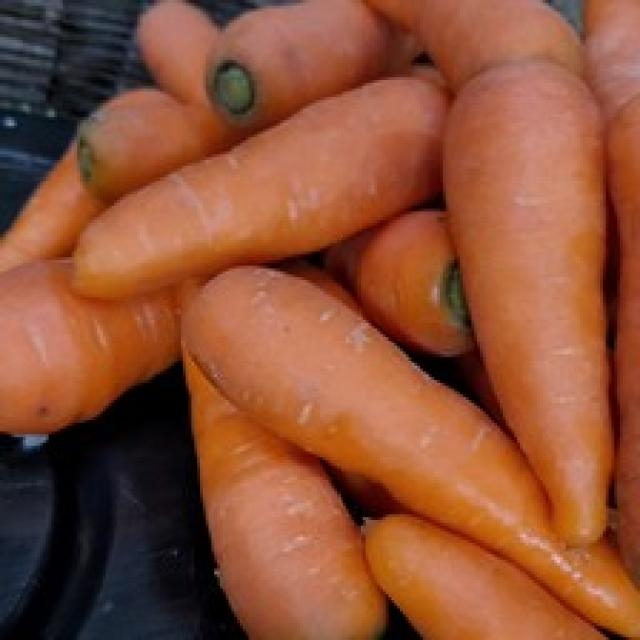Fresh_Carrot: (187, 271, 640, 640), (58, 81, 458, 291), (179, 326, 384, 640)
